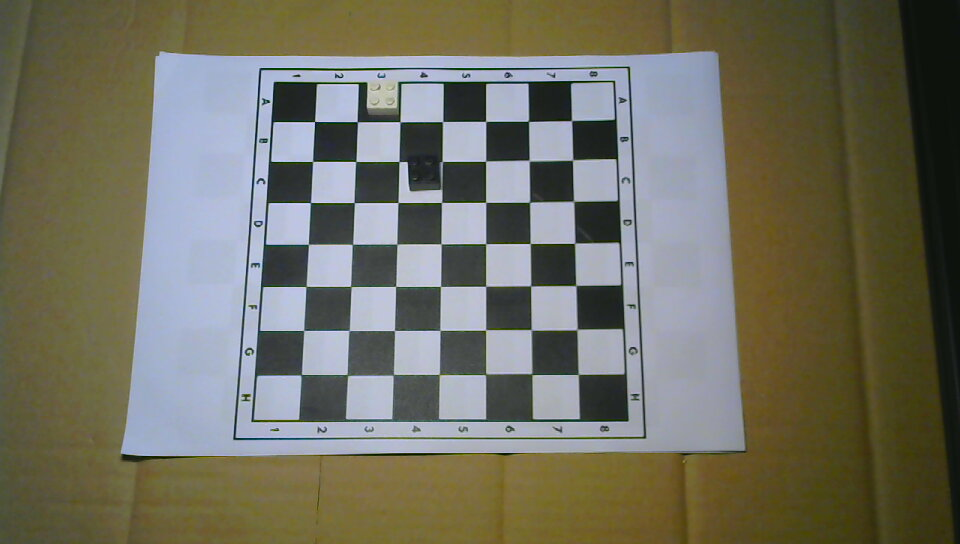bp: (405, 153, 442, 192)
wp: (364, 78, 402, 116)
